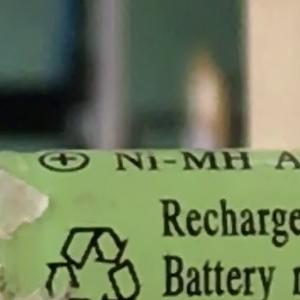keyword: (106, 141, 261, 181)
